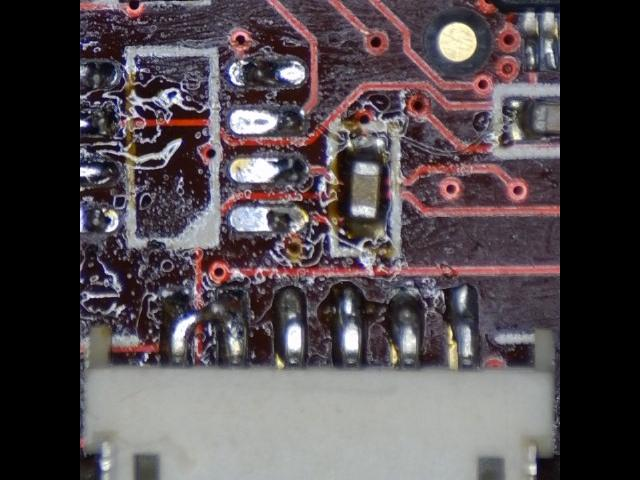Short_circuit: (161, 289, 248, 367)
